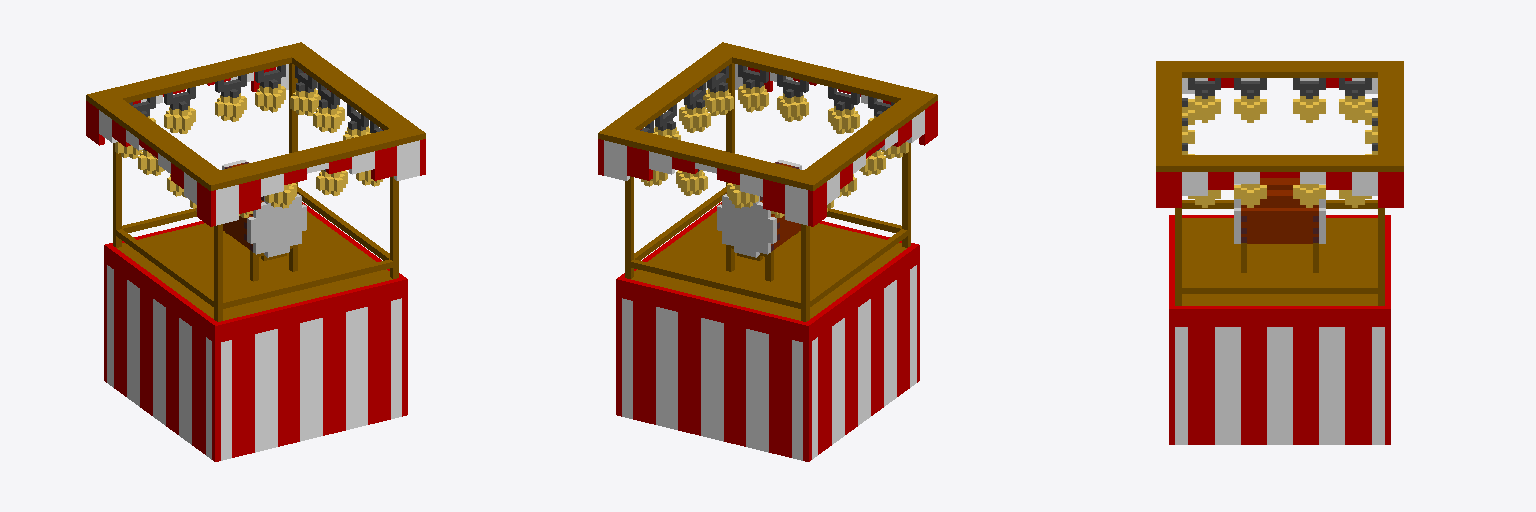
3 renders of one model, left to right at view 1: azimuth 30°, elevation 25°; view 2: azimuth 150°, elevation 25°; view 3: azimuth 270°, elevation 25°, orthographic.
Bounding box in the file's own units: 38 × 48 × 38.
Materials: 1 (1 with a texture image).